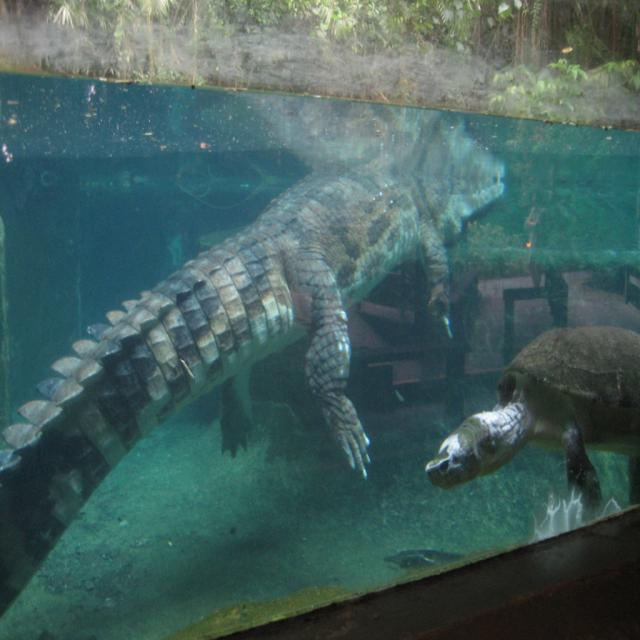crocodile: (0, 119, 510, 606)
